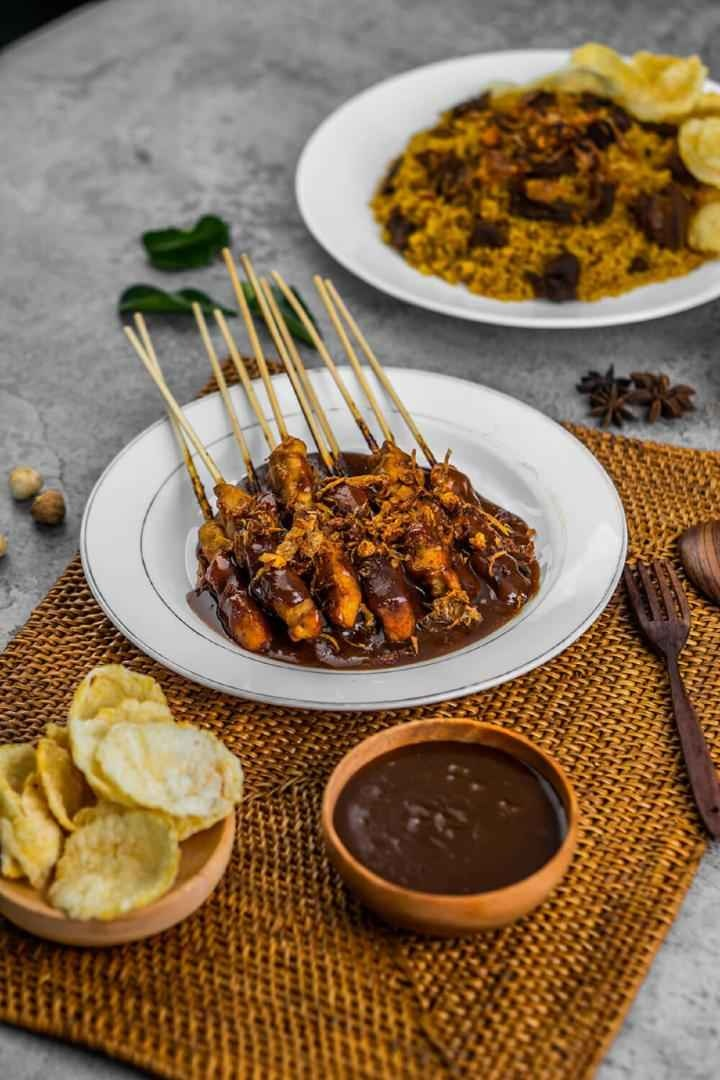sate_madura: (139, 328, 530, 654)
